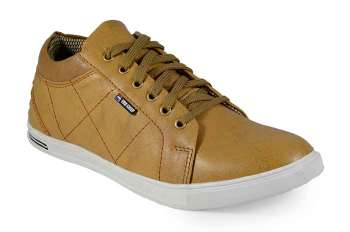Footwear: (22, 16, 329, 216)
